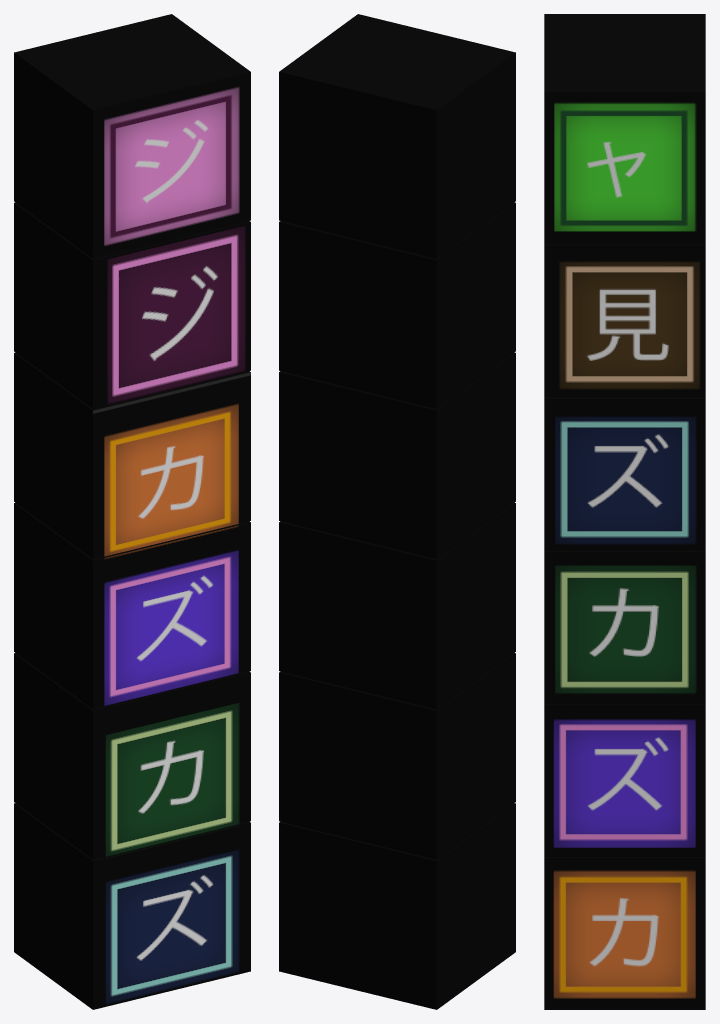
The model's file is SignTower.fbx.
3 views of the same model, side by side, from view 1: azimuth 30°, elevation 25°; view 2: azimuth 150°, elevation 25°; view 3: azimuth 270°, elevation 25° (orthographic).
Visible parts, largest first — view 1: Cube.001; view 2: Cube.001; view 3: Cube.001.
Part boxes in pixels (left/top/right/bottom): Cube.001: left=14, top=14, right=250, bottom=1009; Cube.001: left=279, top=14, right=515, bottom=1009; Cube.001: left=544, top=14, right=705, bottom=1009.
Bounding box in the file's own units: 144 × 784 × 125.
